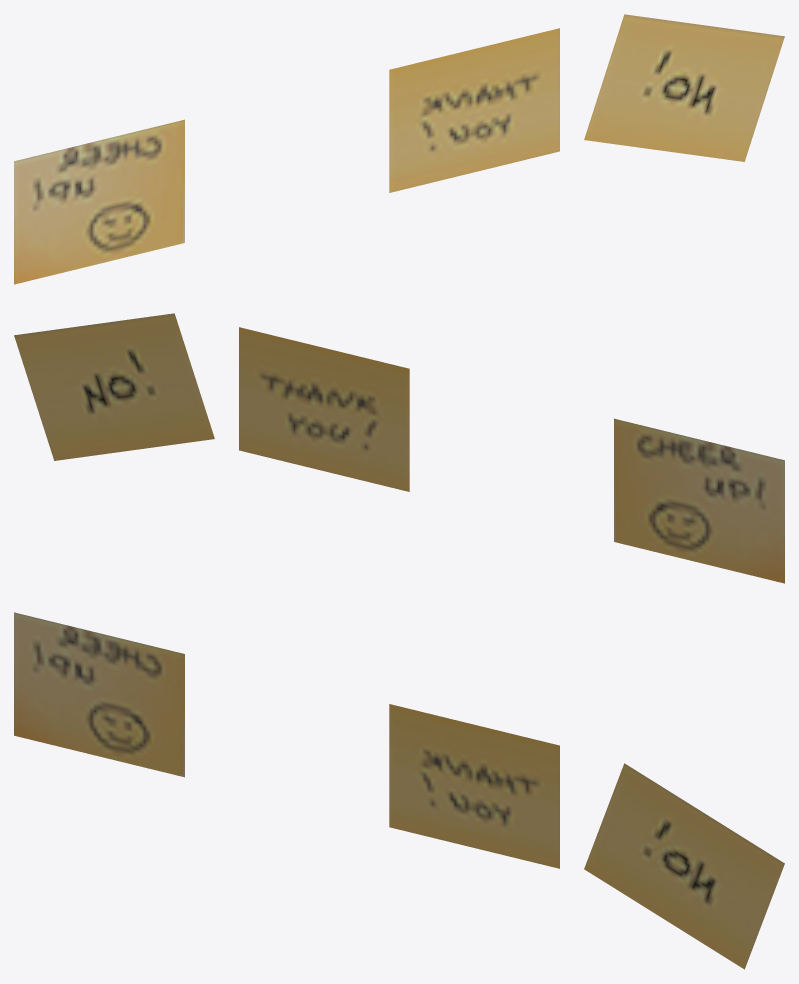
File: ZhiBanShi_01_bianqian_01.FBX
3 renders of one model, top to bottom at view 1: azimuth 30°, elevation 25°; view 2: azimuth 150°, elevation 25°; view 3: azimuth 330°, elevation 25°, orthographic.
Parts seen in each view (by area): view 1: ZhiBanShi_01_bianqian_01; view 2: ZhiBanShi_01_bianqian_01; view 3: ZhiBanShi_01_bianqian_01.
Boxes of the visible parts, left/top/right/bottom form: ZhiBanShi_01_bianqian_01: left=14, top=14, right=784, bottom=284; ZhiBanShi_01_bianqian_01: left=14, top=313, right=784, bottom=583; ZhiBanShi_01_bianqian_01: left=14, top=612, right=784, bottom=969.
Bounding box in the file's own units: 150 × 33.28 × 0.000488.
